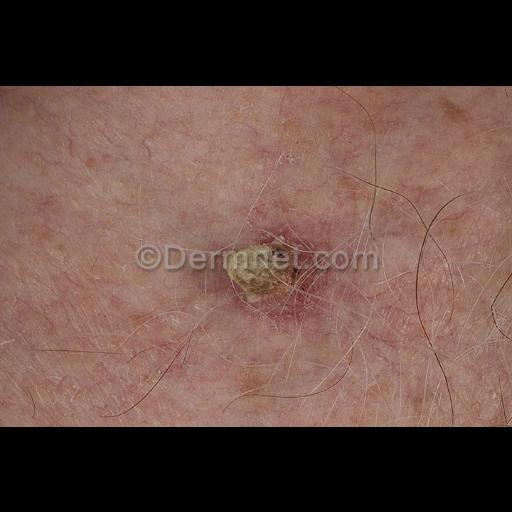Skin_Lesion: (196, 218, 320, 316)
